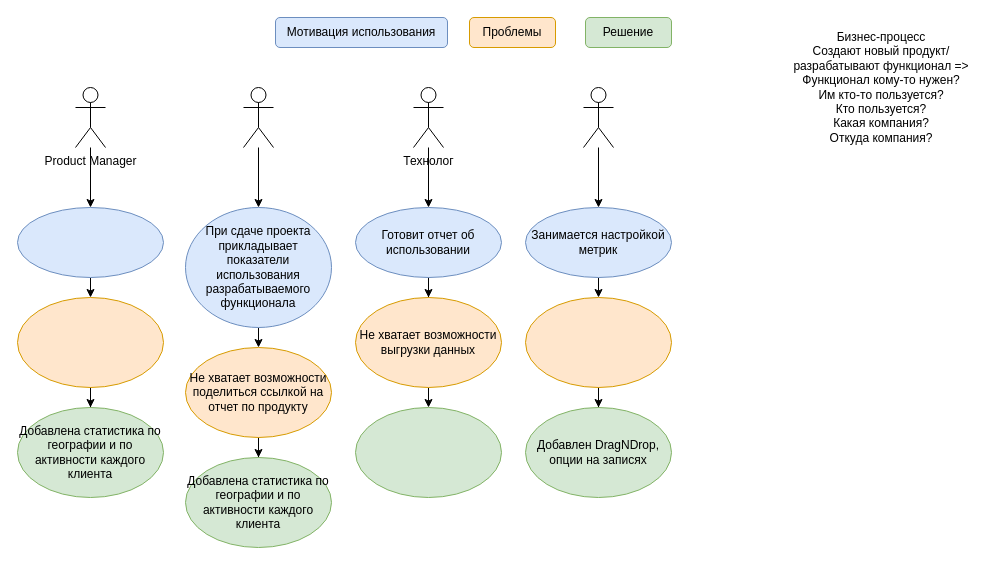
This 994x565 diagram has some shape labels left out. Each missing label, with the box of its shape:
Администратор: (582, 86, 614, 148)
Добавлена выгрузка данных в 2 формата: Excel и PDF: (354, 406, 502, 498)
Не хватает более подробной статистики: по регионам или каждому клиенту: (16, 296, 164, 388)
Оценивает общую картину продвижения продукта: (16, 206, 164, 278)
Разработчик: (242, 86, 274, 148)
Сталкивался с неудобством настройки: (524, 296, 672, 388)
